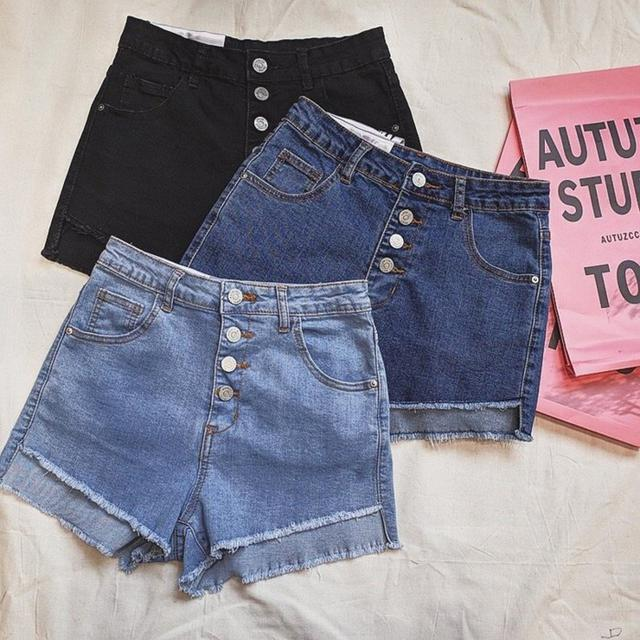Shorts: (2, 238, 412, 595), (177, 98, 546, 437), (52, 20, 412, 269)
